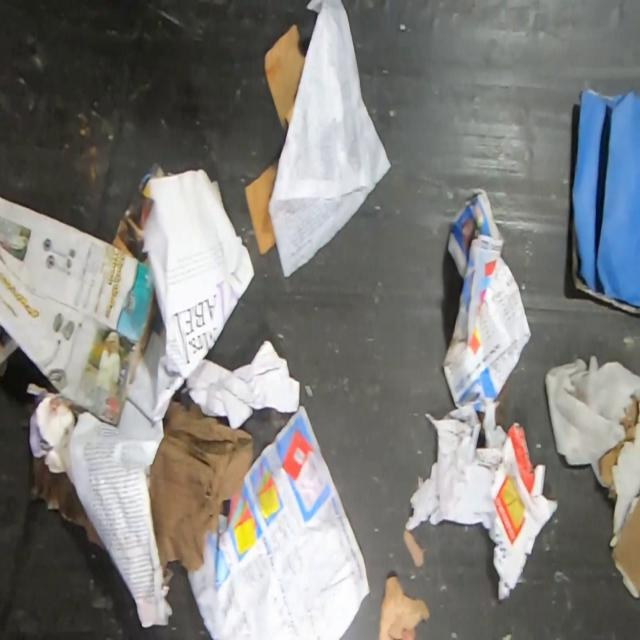cardboard: (0, 198, 157, 428), (148, 383, 254, 584), (564, 80, 639, 338), (597, 385, 640, 599), (30, 460, 107, 550), (264, 22, 308, 134), (244, 157, 282, 257), (21, 404, 39, 428)
